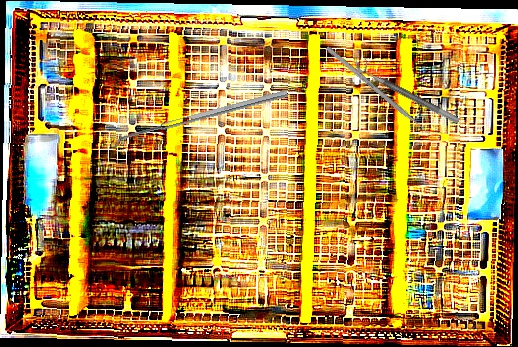Fixation Ring: (352, 54, 466, 125)
Pusher: (325, 45, 438, 142)
Spatula Surgical: (112, 89, 290, 151)
